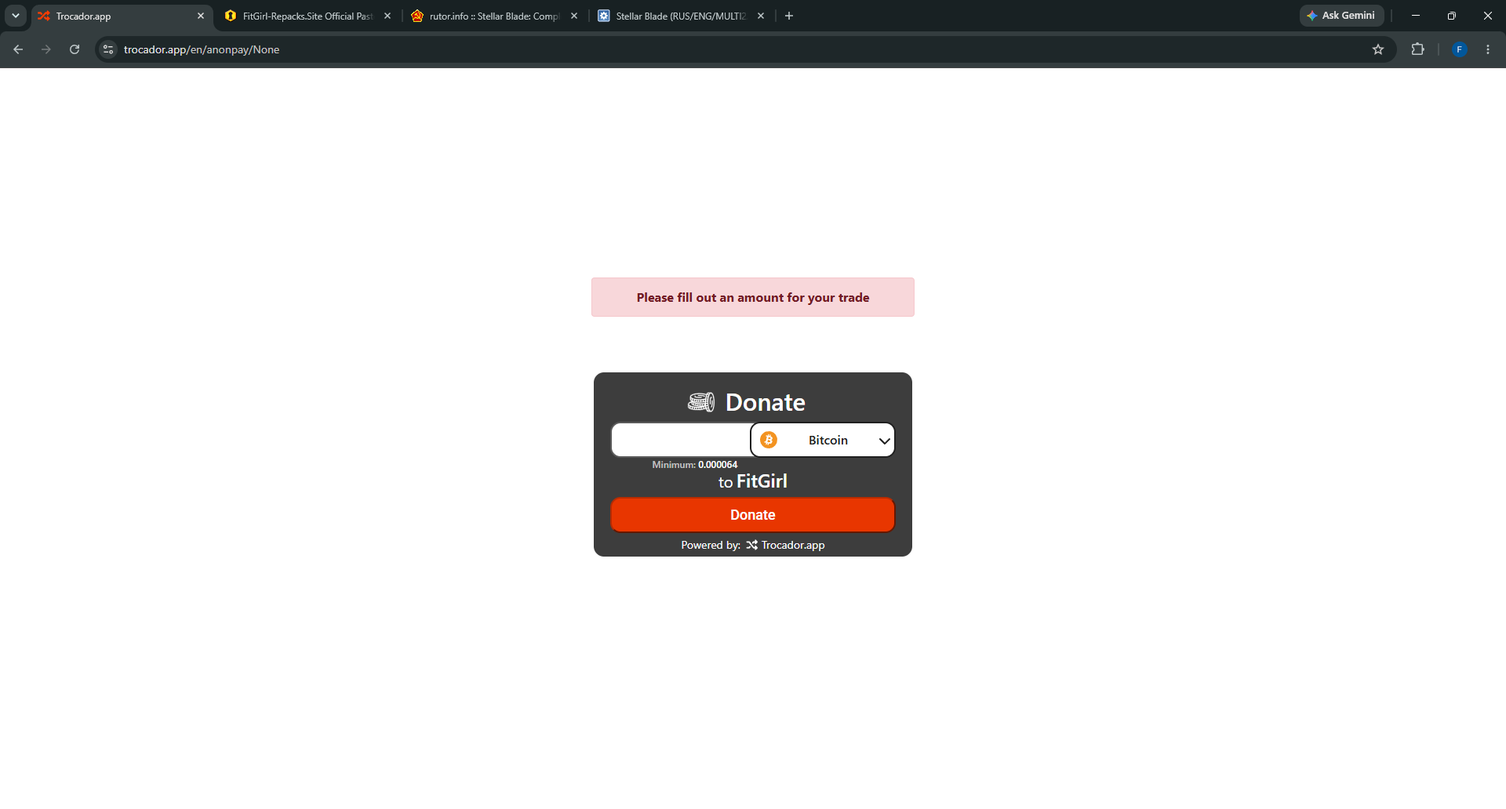fake_button: (598, 485, 904, 543)
